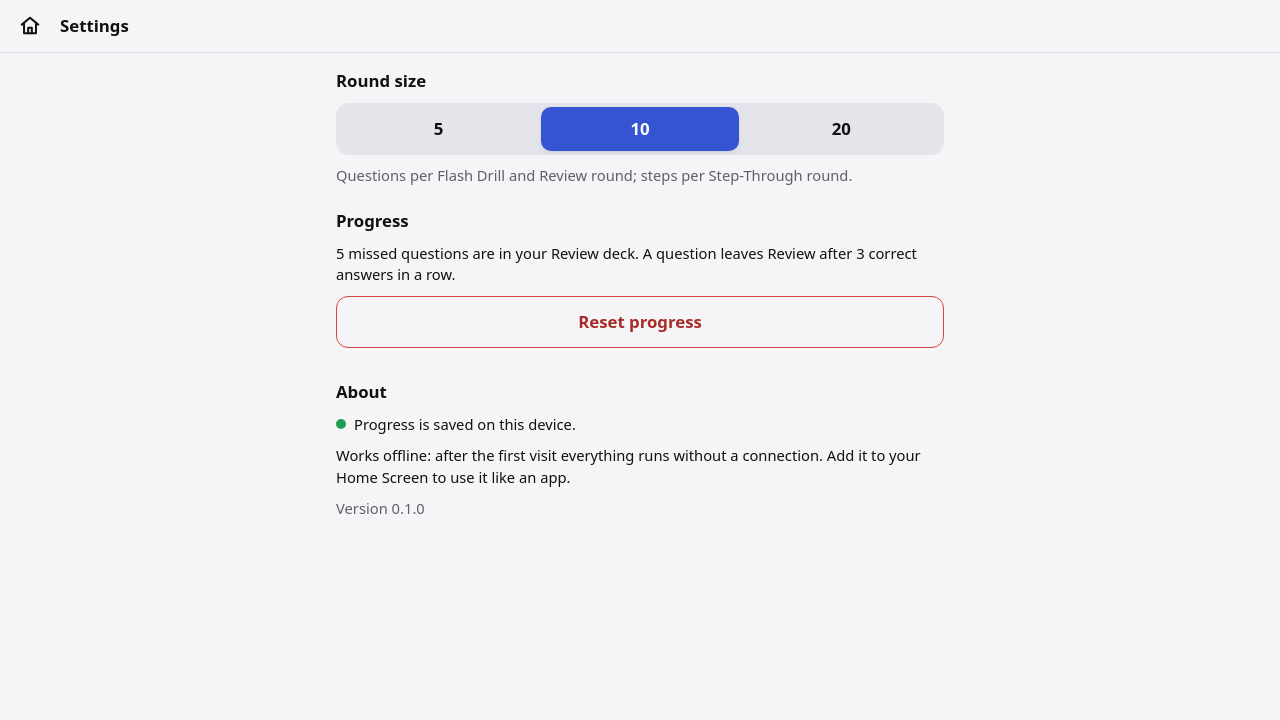
Test: Reset progress two-tap confirm › erases on a deliberate second tap after the guard window
Click the button "Reset progress".
click(640, 322)  # box [336, 296, 944, 348]
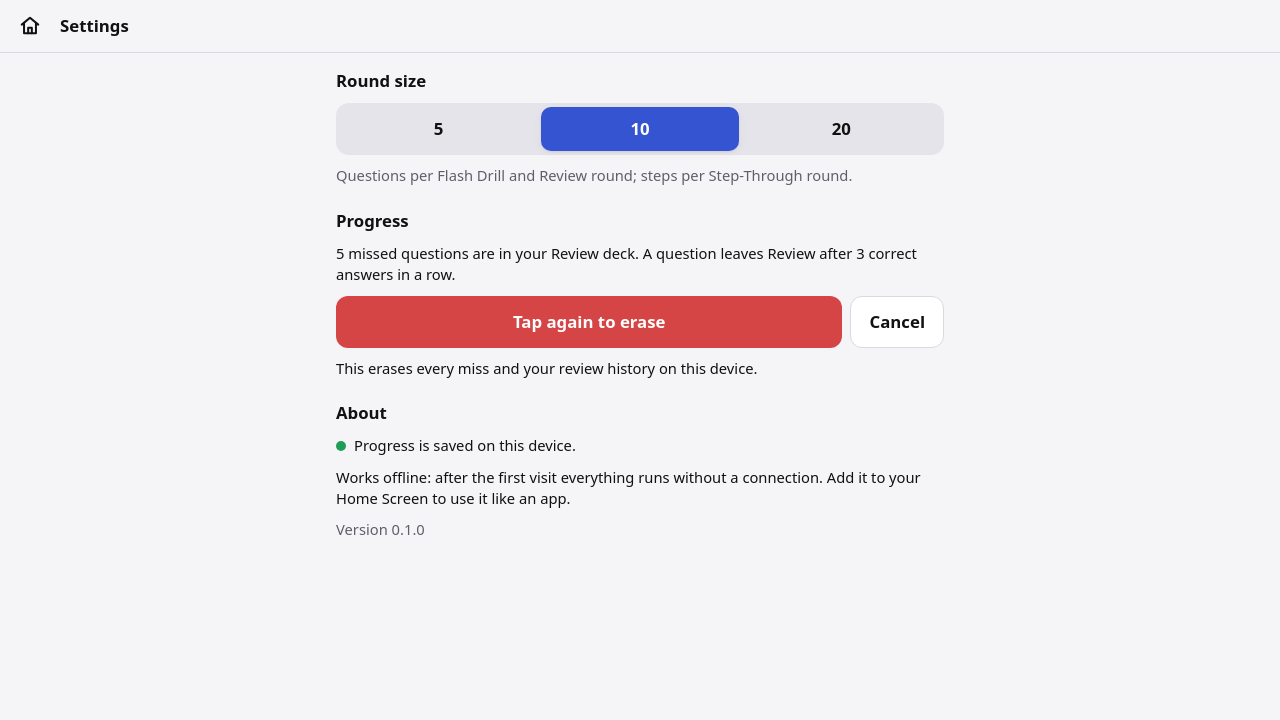
Click the button "Tap again to erase".
click(589, 322)  # box [336, 296, 842, 348]
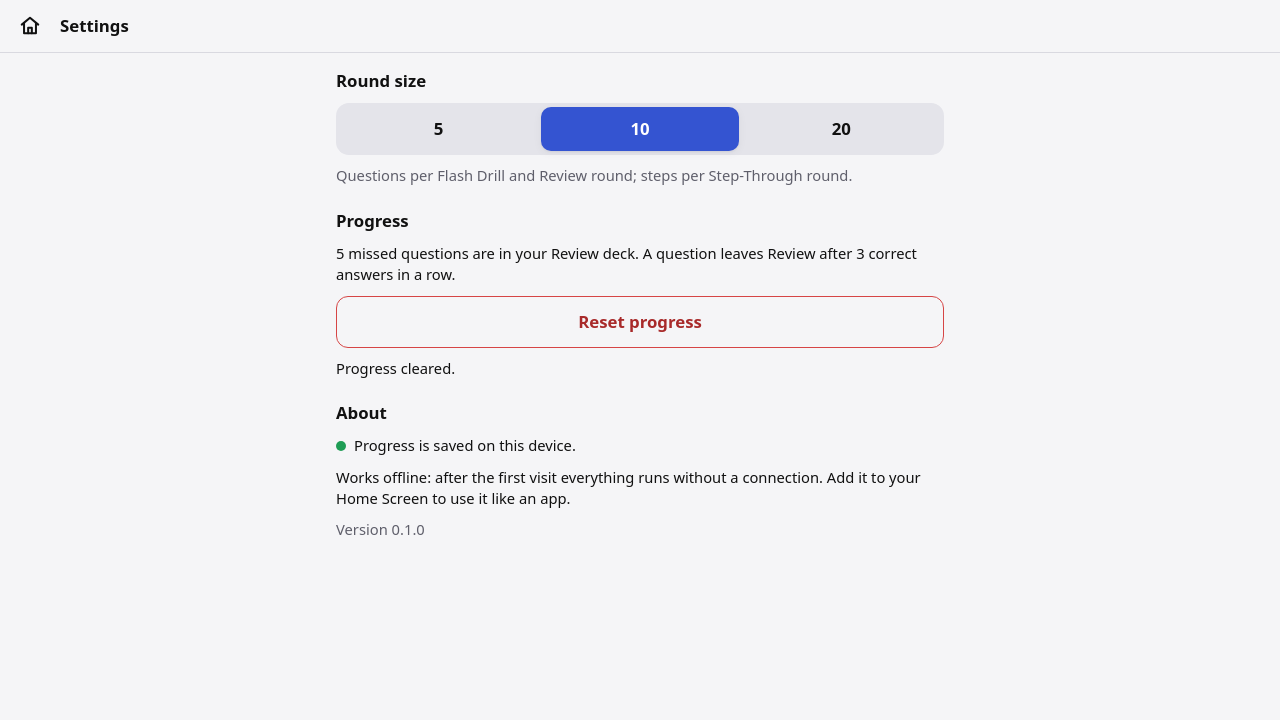
Now the text "Progress cleared." is shown, box [336, 358, 455, 378]
